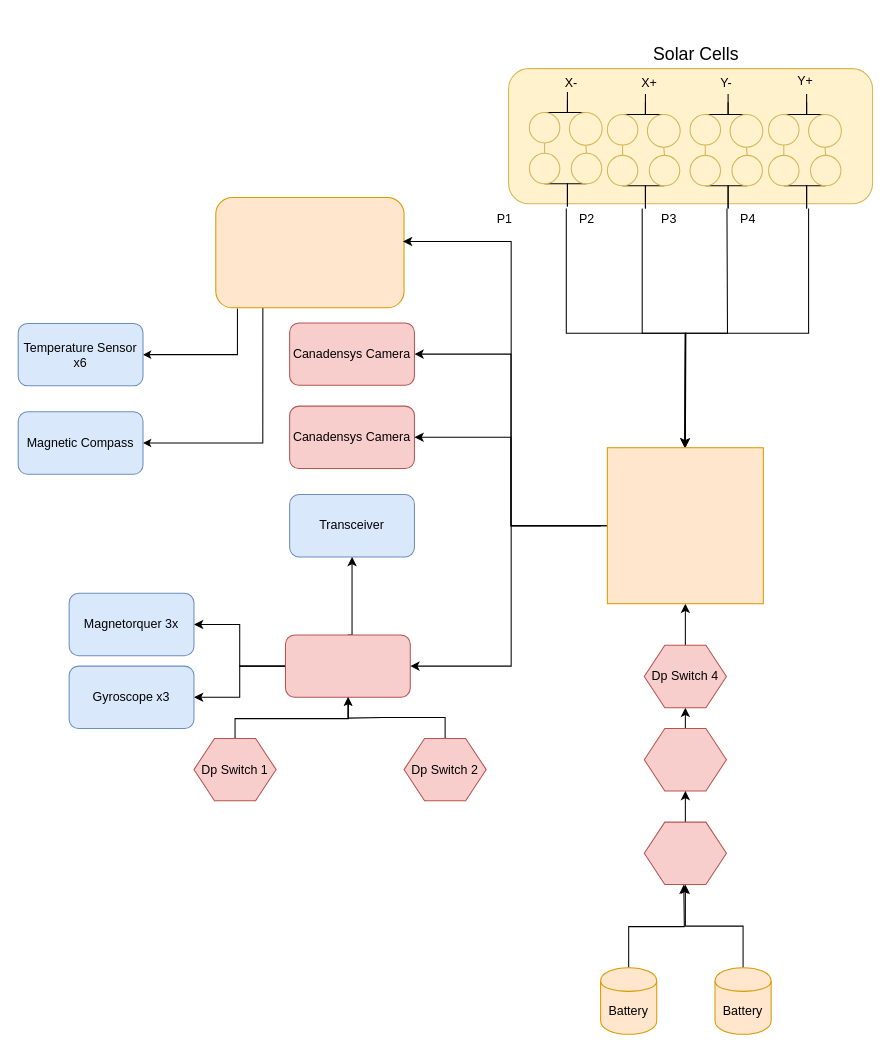
Some shapes in this 891 by 1052 pixel diagram are drawn without their labels. The centre of each missing label's shape, as x and y in pixels:
30 Minute Timer: pixel 347 665
Dp Switch 3: pixel 684 759
EnduroSat Electrical Power Supply Unit: pixel 684 525
OBC: pixel 309 252
remove before flight switch: pixel 684 853
